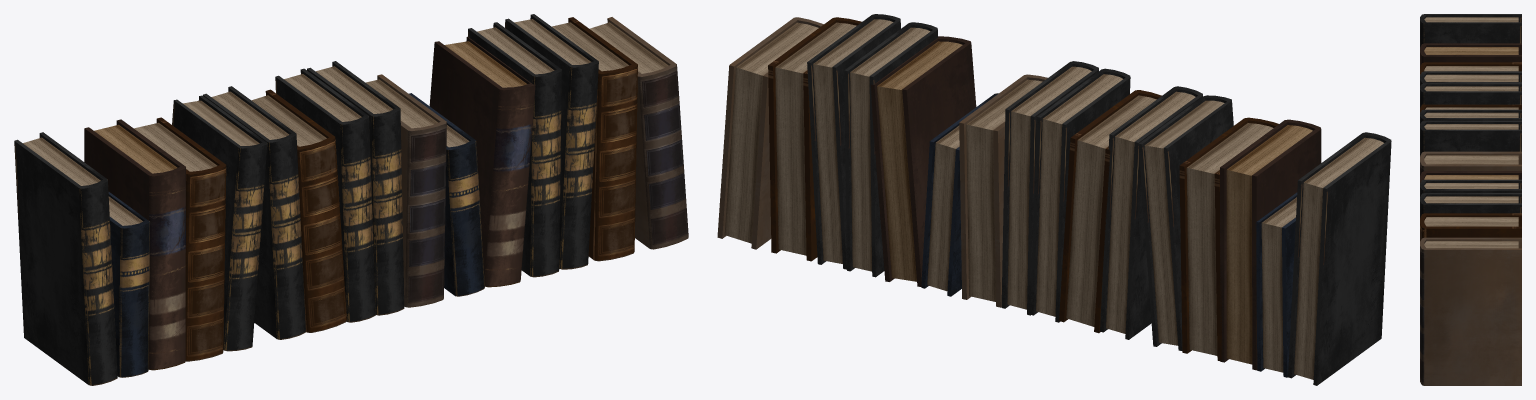
File: Books2.fbx
3 views of the same model, side by side, from view 1: azimuth 30°, elevation 25°; view 2: azimuth 150°, elevation 25°; view 3: azimuth 270°, elevation 25° (orthographic). The views are drawn at different scales.
Visible parts, largest first — view 1: books; view 2: books; view 3: books.
Part boxes in pixels (x1,y1,x2,y2): books: (14,14,688,385); books: (717,14,1391,385); books: (1420,14,1521,385).
Bounding box in the file's own units: 132 × 41.91 × 25.46.
